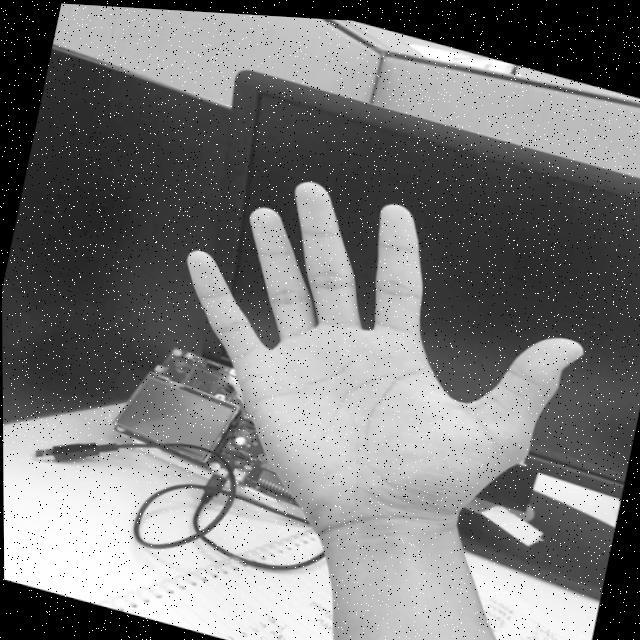no-gloves: (139, 138, 612, 588)
